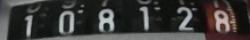digits: (175, 6, 196, 34), (97, 8, 115, 34), (58, 10, 75, 37), (213, 9, 231, 34), (138, 6, 153, 34), (24, 14, 34, 39)
